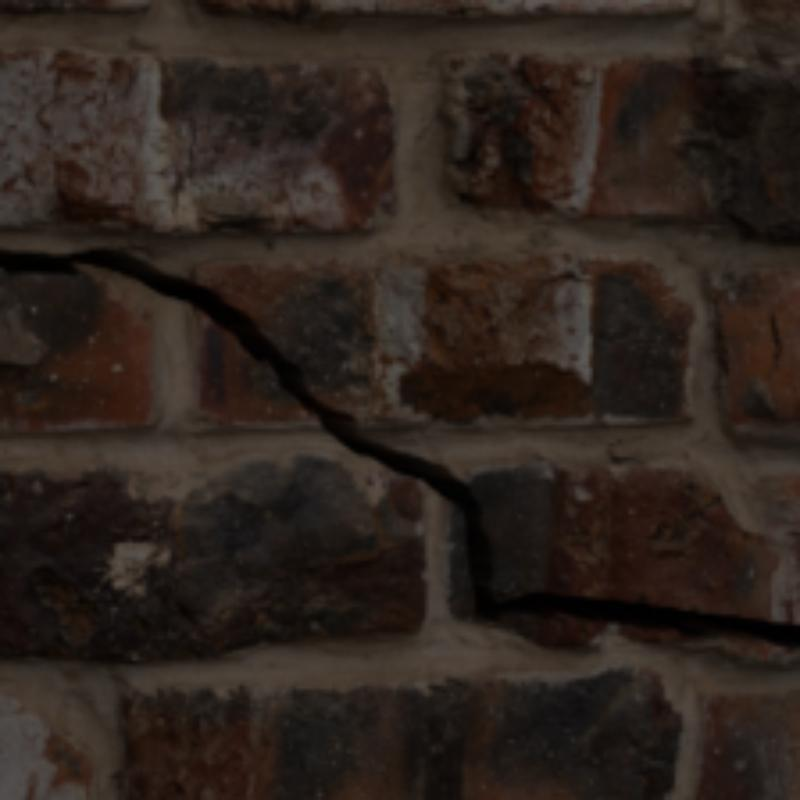crack: (0, 246, 796, 646)
